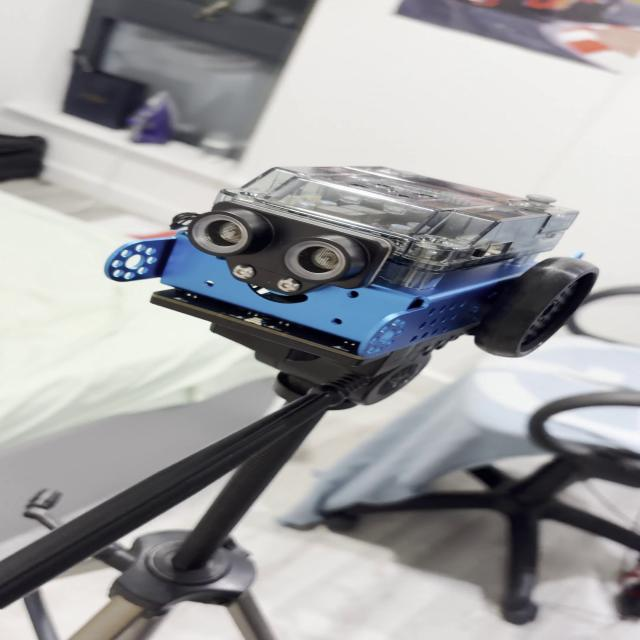mbot-detection: (89, 160, 609, 383)
